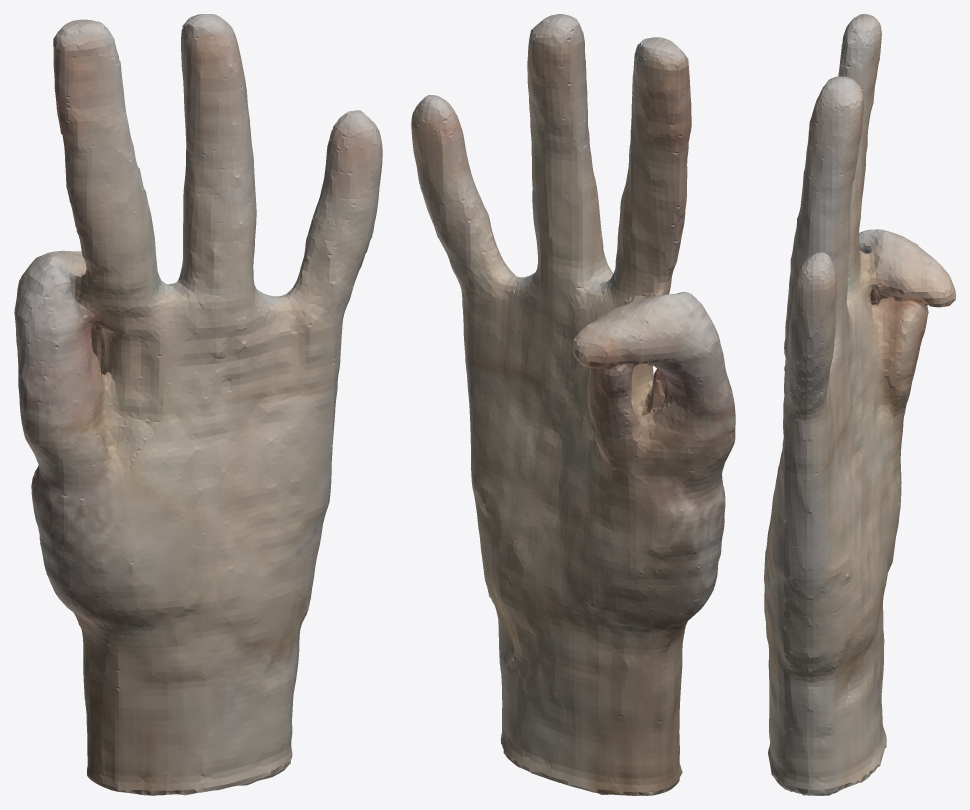
File: ASL9.glb
3 renders of one model, left to right at view 1: azimuth 30°, elevation 25°; view 2: azimuth 150°, elevation 25°; view 3: azimuth 270°, elevation 25°, orthographic. The views are drawn at different scales.
Visible parts, largest first — view 1: world; view 2: world; view 3: world.
Boxes of the visible parts, x1=… form: world: x1=14, y1=14, x2=382, y2=795; world: x1=411, y1=14, x2=735, y2=795; world: x1=764, y1=14, x2=955, y2=795.
Size of the model in its own units: 0.9264 by 2 by 0.4961.
